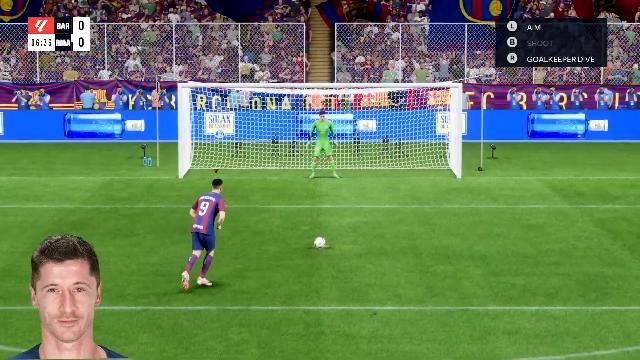bottom-left: (190, 141, 278, 179)
bottom-right: (362, 143, 448, 179)
center-down: (280, 142, 360, 180)
center-up: (280, 96, 360, 140)
football: (314, 239, 326, 247)
goalkeeper: (298, 124, 348, 182)
player: (166, 184, 224, 288)
top-left: (190, 95, 278, 139)
top-right: (362, 95, 450, 141)
